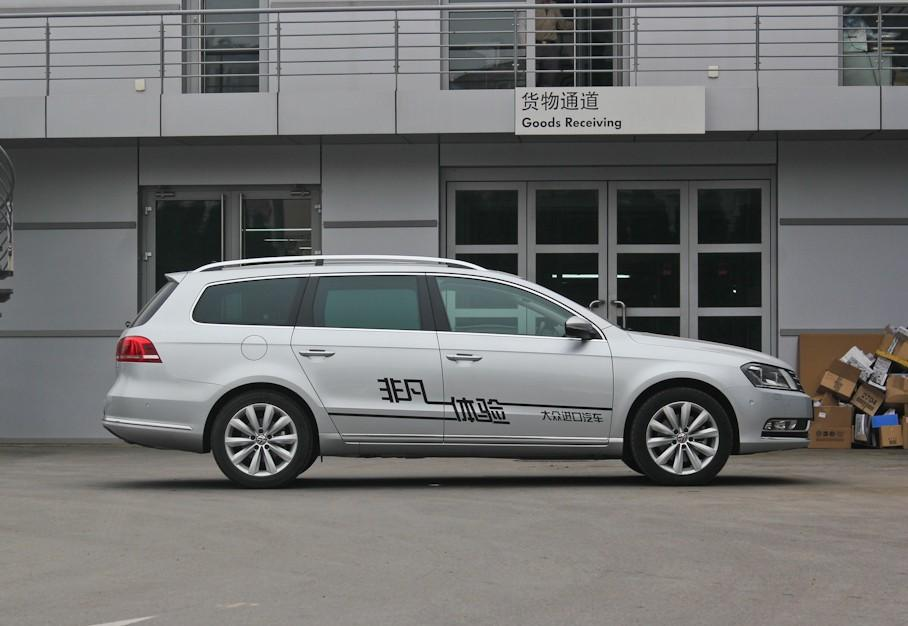Wagon: (99, 253, 817, 490)
